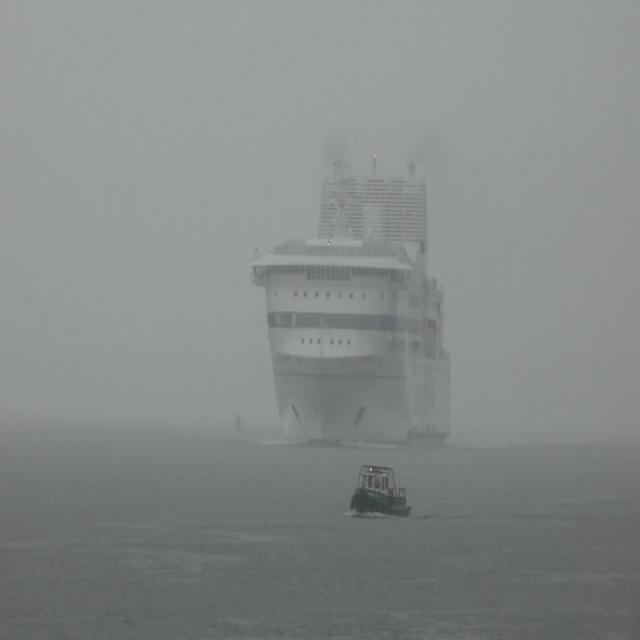houseboat: (351, 455, 418, 522)
passenger ship: (255, 132, 464, 441)
